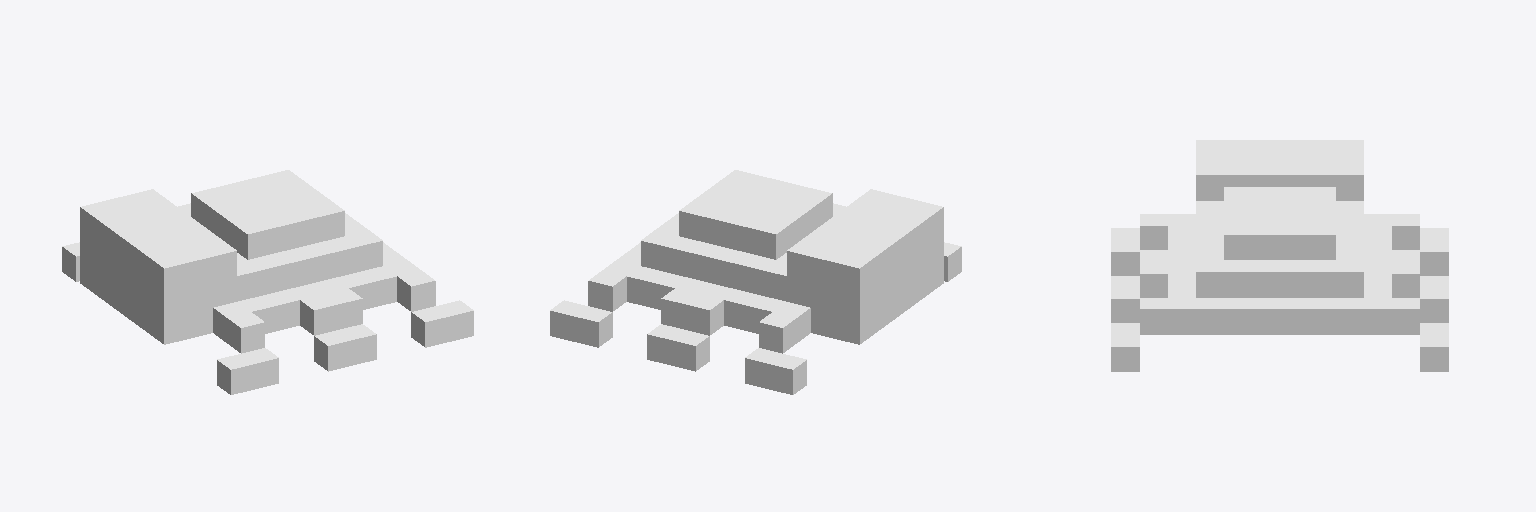
Rendered from ExtrasInsect.obj.
3 views of the same model, side by side, from view 1: azimuth 30°, elevation 25°; view 2: azimuth 150°, elevation 25°; view 3: azimuth 270°, elevation 25° (orthographic).
Parts seen in each view (by area): view 1: object 1; view 2: object 1; view 3: object 1.
Part boxes in pixels (x1,y1,x2,y2): object 1: (62,170,473,394); object 1: (550,170,961,394); object 1: (1111,140,1448,371).
Size of the model in its own units: 1.1 by 0.4 by 1.2.